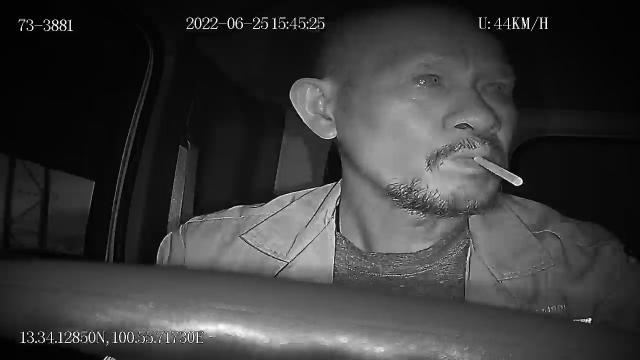SafeDriving: (401, 61, 455, 96)
Smoking: (473, 156, 525, 186)
